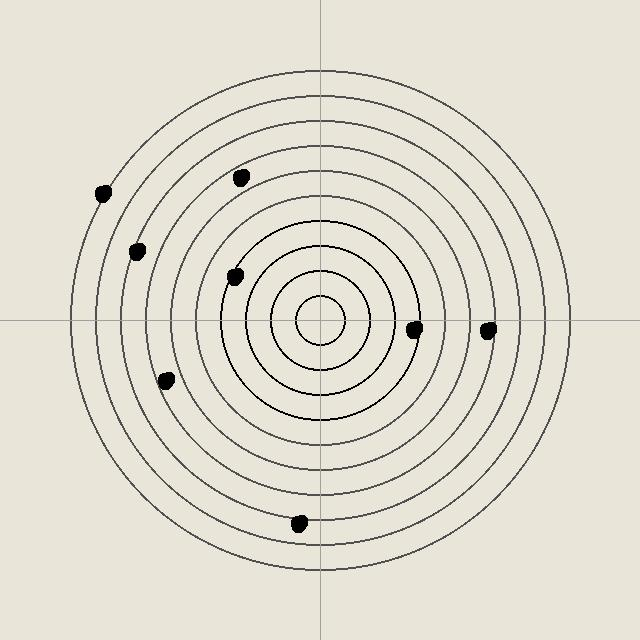random_scatter: (403, 319, 423, 339), (230, 167, 250, 187), (126, 241, 146, 261), (224, 266, 244, 286), (92, 183, 112, 203), (155, 370, 175, 390), (477, 320, 497, 340), (288, 513, 308, 533)
